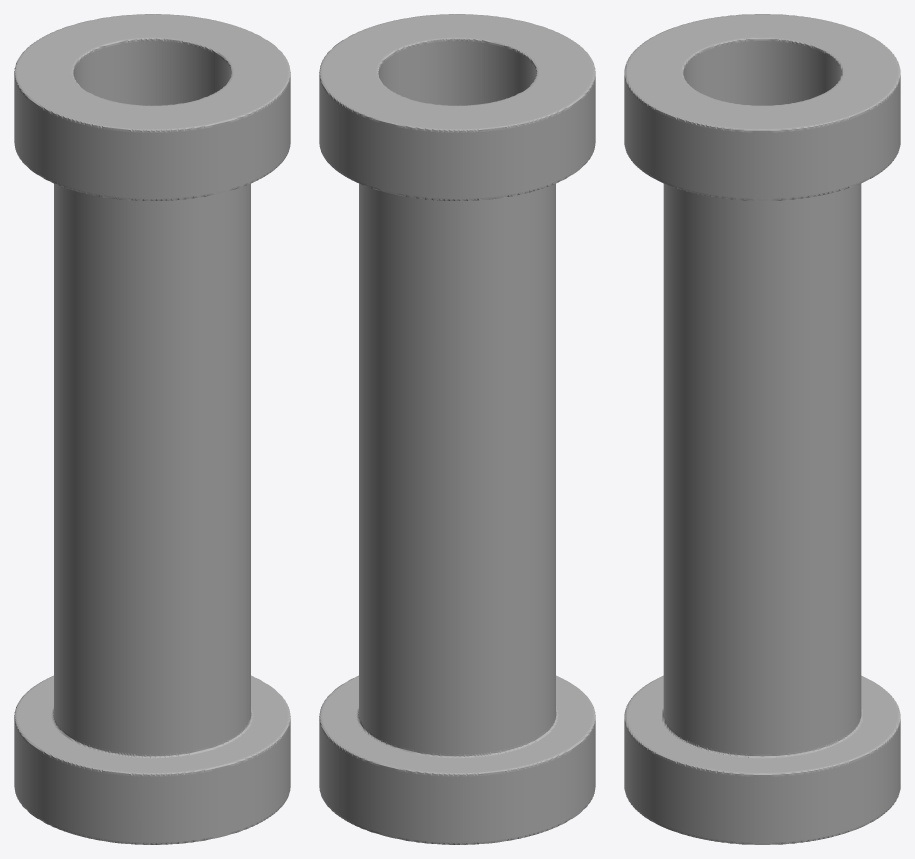
Rendered from Pipe11.fbx.
3 renders of one model, left to right at view 1: azimuth 30°, elevation 25°; view 2: azimuth 150°, elevation 25°; view 3: azimuth 270°, elevation 25°, orthographic.
Visible parts, largest first — view 1: Pipe11; view 2: Pipe11; view 3: Pipe11.
Boxes of the visible parts, x1,y1,x2,y2 form: Pipe11: (14, 14, 290, 844); Pipe11: (319, 14, 595, 844); Pipe11: (624, 14, 900, 844).
Size of the model in its own units: 199 by 569 by 199.
